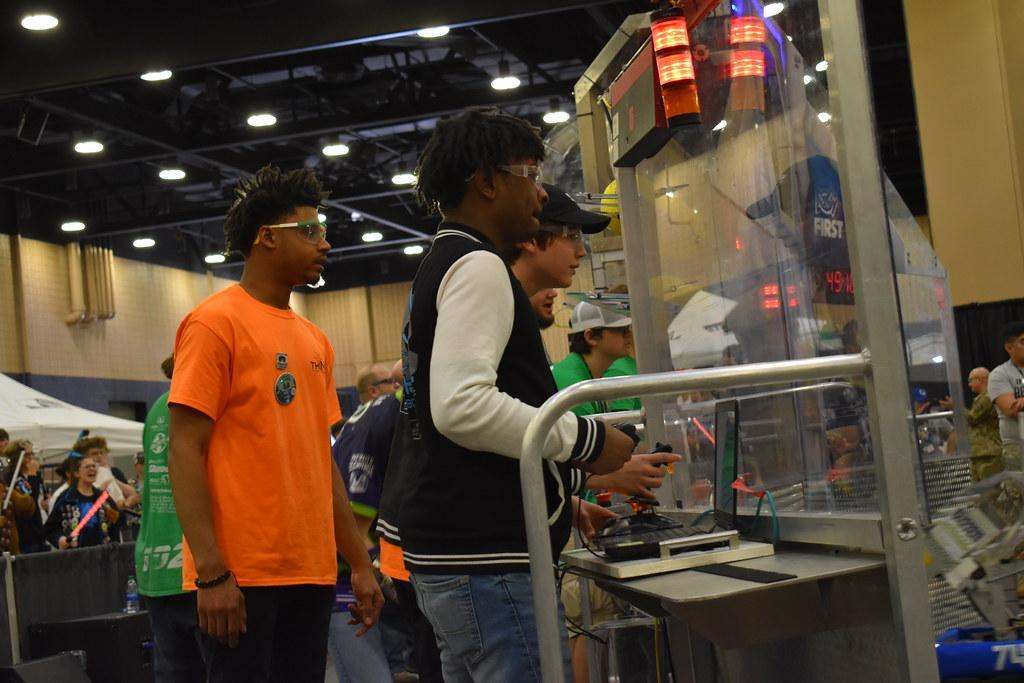robot: (916, 470, 1024, 679)
